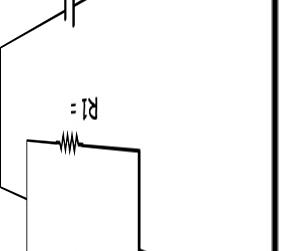resistor: (42, 130, 92, 154)
